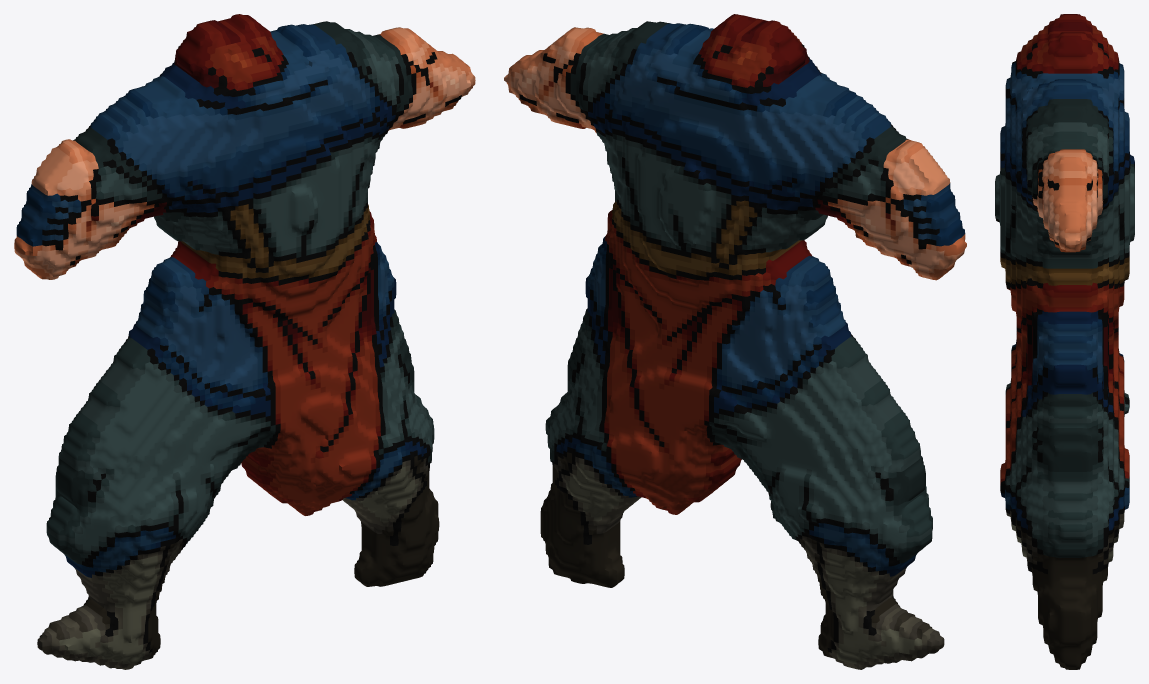
Rendered from Fight_719_1_02.obj.
The picture shows the model from 3 angles, left to right: view 1: azimuth 30°, elevation 25°; view 2: azimuth 150°, elevation 25°; view 3: azimuth 270°, elevation 25°; orthographic projection. The views are drawn at different scales.
Size of the model in its own units: 9.1 by 11.8 by 2.6.
Materials: 1 (1 with a texture image).
